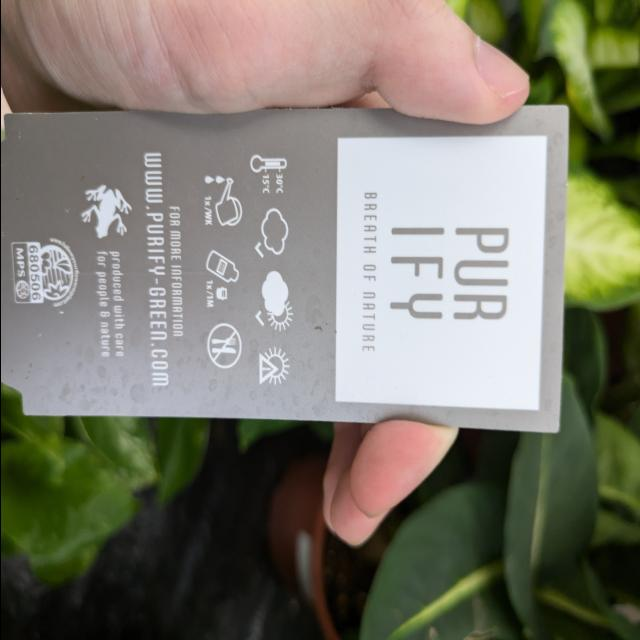dungen: (199, 245, 241, 308)
halb sonnig schattig: (252, 266, 294, 334)
keine Sonne: (255, 342, 291, 387)
mittel giesen: (192, 175, 248, 237)
schattig: (250, 208, 294, 258)
